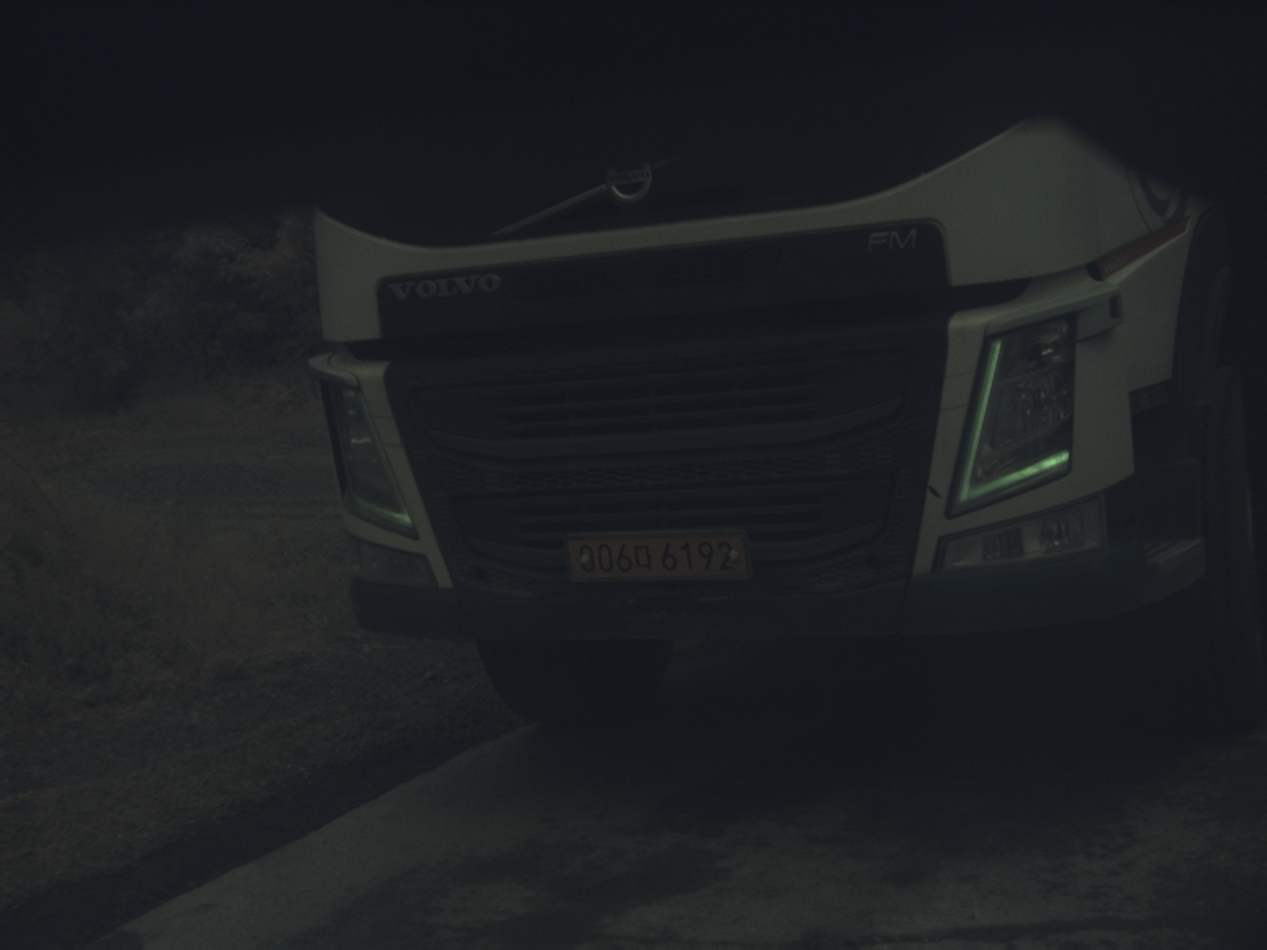license_plate: (567, 533, 750, 581)
truck: (309, 121, 1262, 725)
